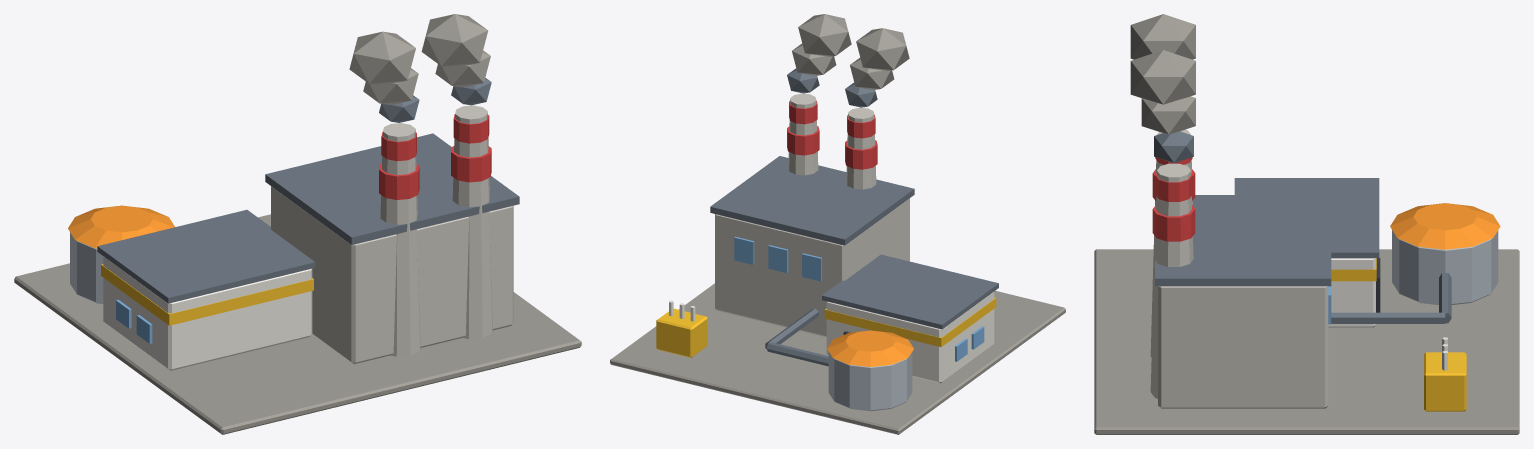
File: thermal_plant.glb
3 renders of one model, left to right at view 1: azimuth 30°, elevation 25°; view 2: azimuth 150°, elevation 25°; view 3: azimuth 270°, elevation 25°, orthographic. The views are drawn at different scales.
Visible parts, largest first — view 1: corpo; view 2: corpo; view 3: corpo.
Part boxes in pixels (x1,y1,x2,y2): corpo: (14, 14, 581, 434); corpo: (610, 14, 1065, 434); corpo: (1094, 14, 1519, 434).
Size of the model in its own units: 4 by 3.52 by 4.
